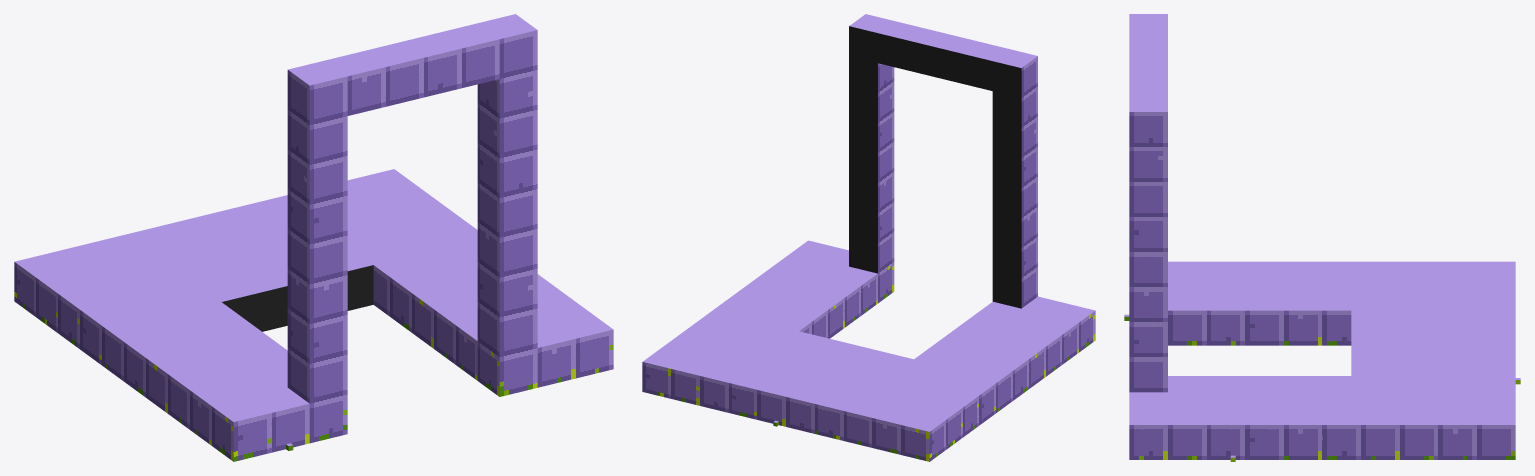
The model's file is water_doorframeao.fezao.glb.
3 renders of one model, left to right at view 1: azimuth 30°, elevation 25°; view 2: azimuth 150°, elevation 25°; view 3: azimuth 270°, elevation 25°, orthographic. The views are drawn at different scales.
Visible parts, largest first — view 1: WATER_DOORFRAMEAO; view 2: WATER_DOORFRAMEAO; view 3: WATER_DOORFRAMEAO.
Boxes of the visible parts, left/top/right/bottom form: WATER_DOORFRAMEAO: left=14, top=14, right=613, bottom=461; WATER_DOORFRAMEAO: left=642, top=14, right=1095, bottom=461; WATER_DOORFRAMEAO: left=1124, top=14, right=1520, bottom=461.
Size of the model in its own units: 5.06 by 4.5 by 5.12.
Materials: 1 (1 with a texture image).
